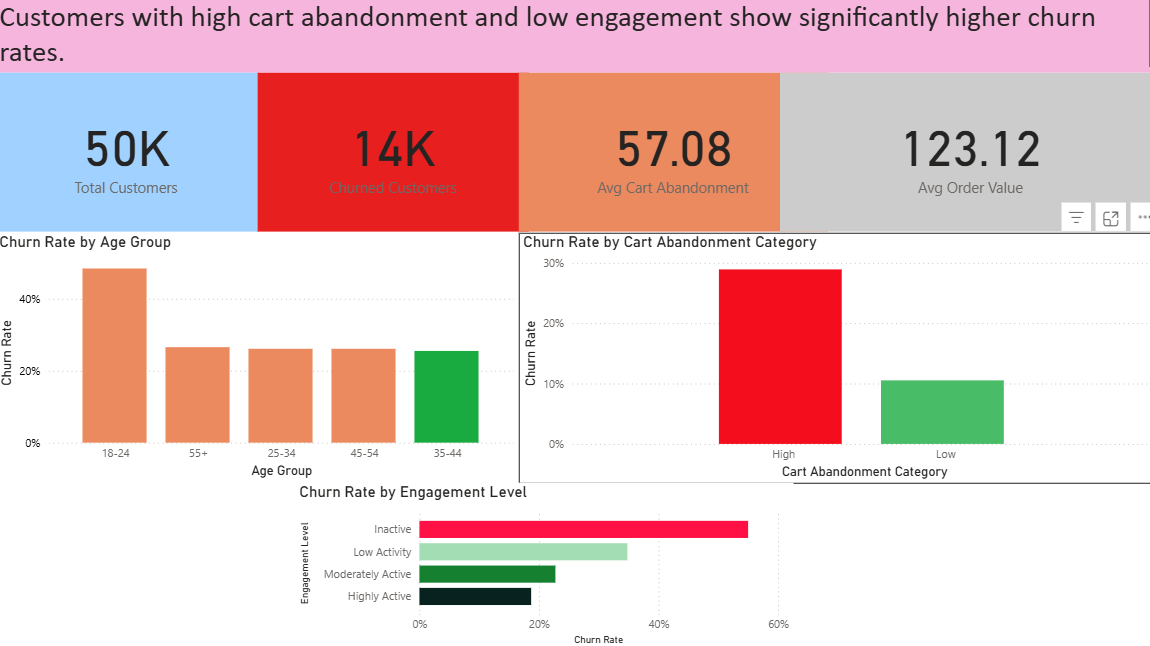

This screenshot's page, from the dashboard's own definition file:
{"tool":"powerbi","page":{"name":" Churn_Analysis","canvas":[1280,720],"ordinal":1},"visuals":[{"type":"textbox","box":[0,0,1280.3,86.4],"z":0},{"type":"card","fields":{"Values":["Payment_Method_Diversity.Total Customers"]},"box":[0,86.4,288.2,174.3],"z":1000},{"type":"card","fields":{"Values":["Payment_Method_Diversity.Churned Customers"]},"box":[288.2,86.4,297.8,174.3],"z":2000},{"type":"card","fields":{"Values":["Payment_Method_Diversity.Avg Cart Abandonment"]},"box":[575,86.4,338.9,174.3],"z":3000},{"type":"card","fields":{"Values":["Payment_Method_Diversity.Avg Order Value"]},"box":[861.8,86.4,418.5,174.3],"z":4000},{"type":"clusteredColumnChart","fields":{"Category":["Payment_Method_Diversity.Age Group"],"Y":["Payment_Method_Diversity.Churn Rate"]},"box":[0,262.1,575,274.4],"z":5000},{"type":"clusteredColumnChart","fields":{"Category":["Payment_Method_Diversity.Cart Abandonment Category"],"Y":["Payment_Method_Diversity.Churn Rate"]},"box":[575,262.1,705.3,275.8],"z":6000},{"type":"clusteredBarChart","fields":{"Category":["Payment_Method_Diversity.Engagement Level"],"Y":["Payment_Method_Diversity.Churn Rate"]},"box":[329.3,536.5,547.5,183.9],"z":7000}]}

Visuals, with their boxes in screenshot pixels (x1, y1, x2, y2), scaled from the page's 1280x720 canvas onto the 1150x646 screenshot:
textbox: (0,0,1149,78)
card - Payment_Method_Diversity.Total Customers: (0,78,259,234)
card - Payment_Method_Diversity.Churned Customers: (259,78,526,234)
card - Payment_Method_Diversity.Avg Cart Abandonment: (517,78,821,234)
card - Payment_Method_Diversity.Avg Order Value: (774,78,1149,234)
clusteredColumnChart - Payment_Method_Diversity.Age Group x Payment_Method_Diversity.Churn Rate: (0,235,517,481)
clusteredColumnChart - Payment_Method_Diversity.Cart Abandonment Category x Payment_Method_Diversity.Churn Rate: (517,235,1149,483)
clusteredBarChart - Payment_Method_Diversity.Engagement Level x Payment_Method_Diversity.Churn Rate: (296,481,788,645)
